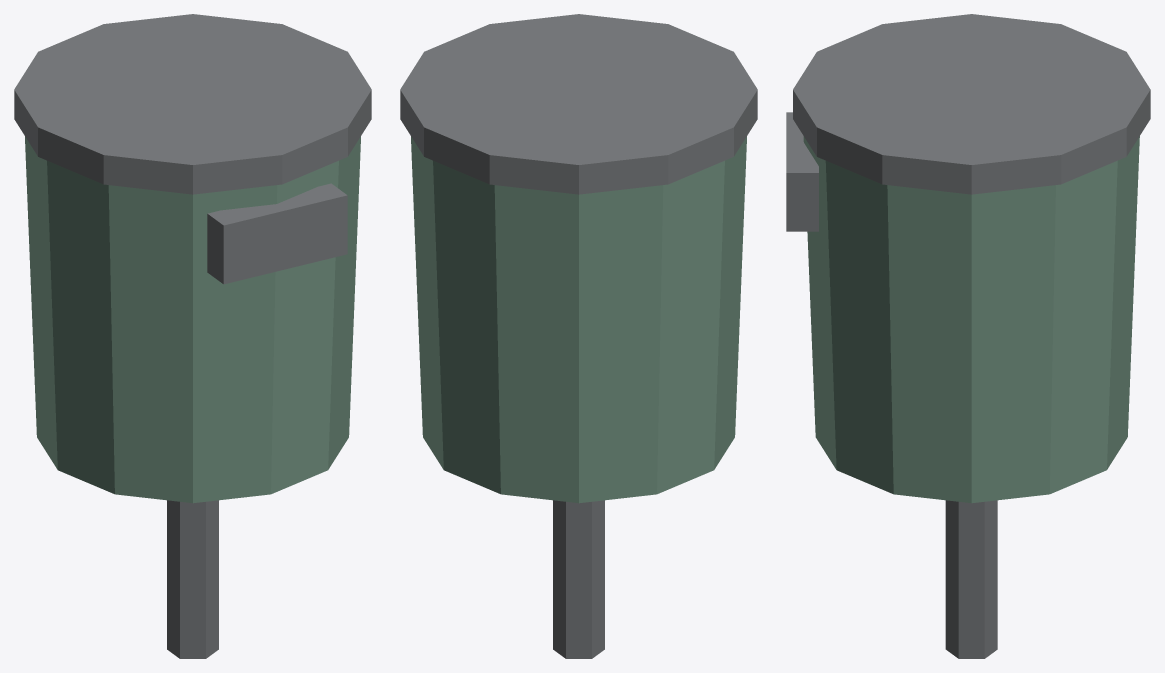
The model's file is bin-street.glb.
3 renders of one model, left to right at view 1: azimuth 30°, elevation 25°; view 2: azimuth 150°, elevation 25°; view 3: azimuth 270°, elevation 25°, orthographic.
Visible parts, largest first — view 1: bin-street; view 2: bin-street; view 3: bin-street.
Boxes of the visible parts, bbox=[...] form: bin-street: bbox=[14, 14, 371, 658]; bin-street: bbox=[400, 14, 757, 658]; bin-street: bbox=[786, 14, 1150, 658].
Size of the model in its own units: 0.55 by 0.95 by 0.56.
